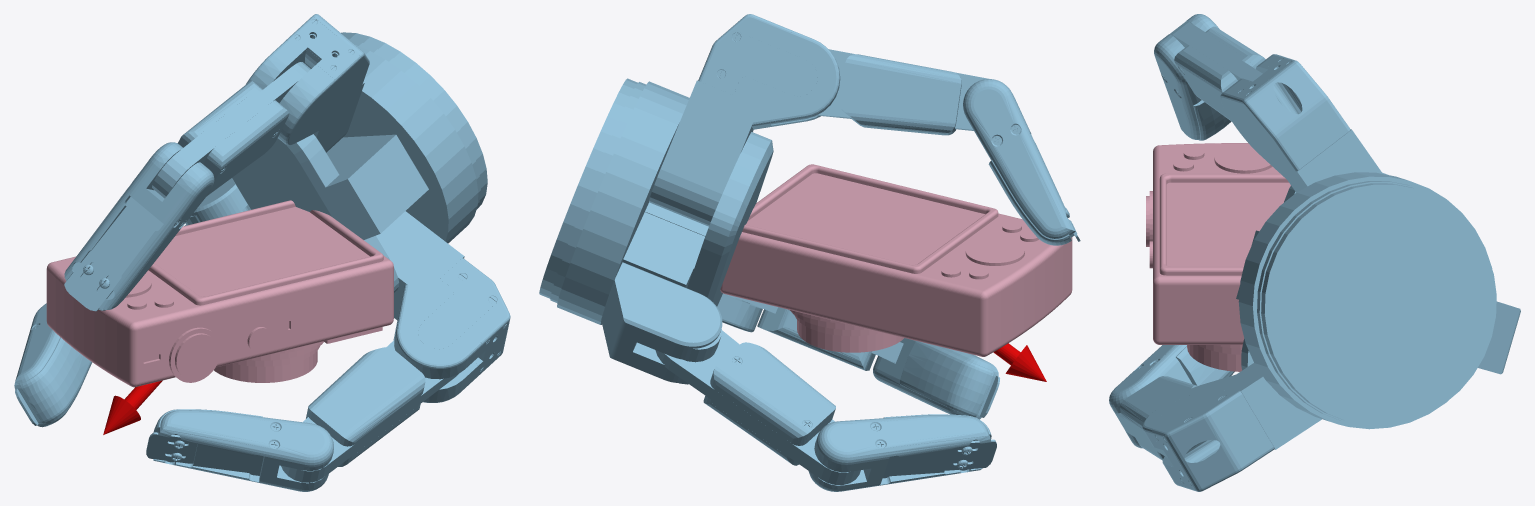
3 views of the same model, side by side, from view 1: azimuth 30°, elevation 25°; view 2: azimuth 150°, elevation 25°; view 3: azimuth 270°, elevation 25° (orthographic). The views are drawn at different scales.
Visible parts, largest first — view 1: world, camera.stl; view 2: world, camera.stl; view 3: world, camera.stl.
Part boxes in pixels (x1=…): world: x1=14, y1=14, x2=510, y2=491; camera.stl: x1=46, y1=200, x2=393, y2=387; world: x1=539, y1=14, x2=1080, y2=491; camera.stl: x1=720, y1=164, x2=1072, y2=356; world: x1=1109, y1=14, x2=1520, y2=491; camera.stl: x1=1146, y1=143, x2=1290, y2=371.
Size of the model in its own units: 0.1938 by 0.1646 by 0.1444.
